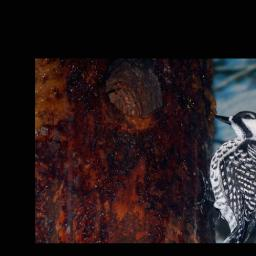Woodpecker: (194, 106, 256, 243)
